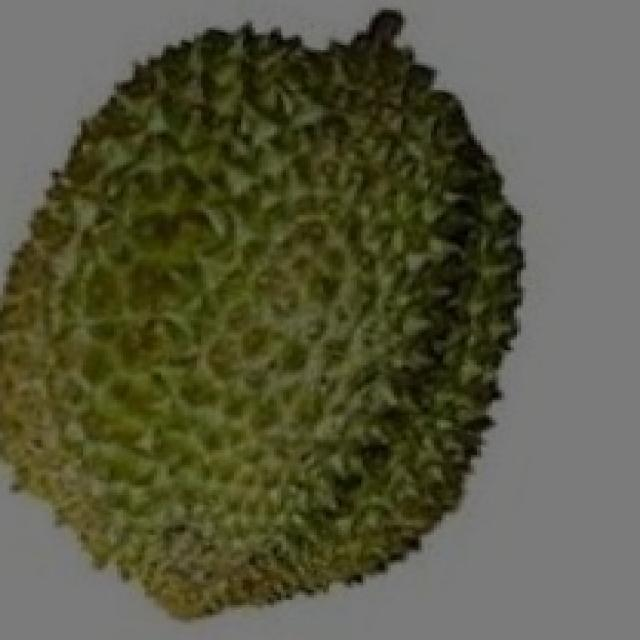fruit: (209, 2, 563, 490), (3, 257, 372, 640), (0, 5, 342, 415)
